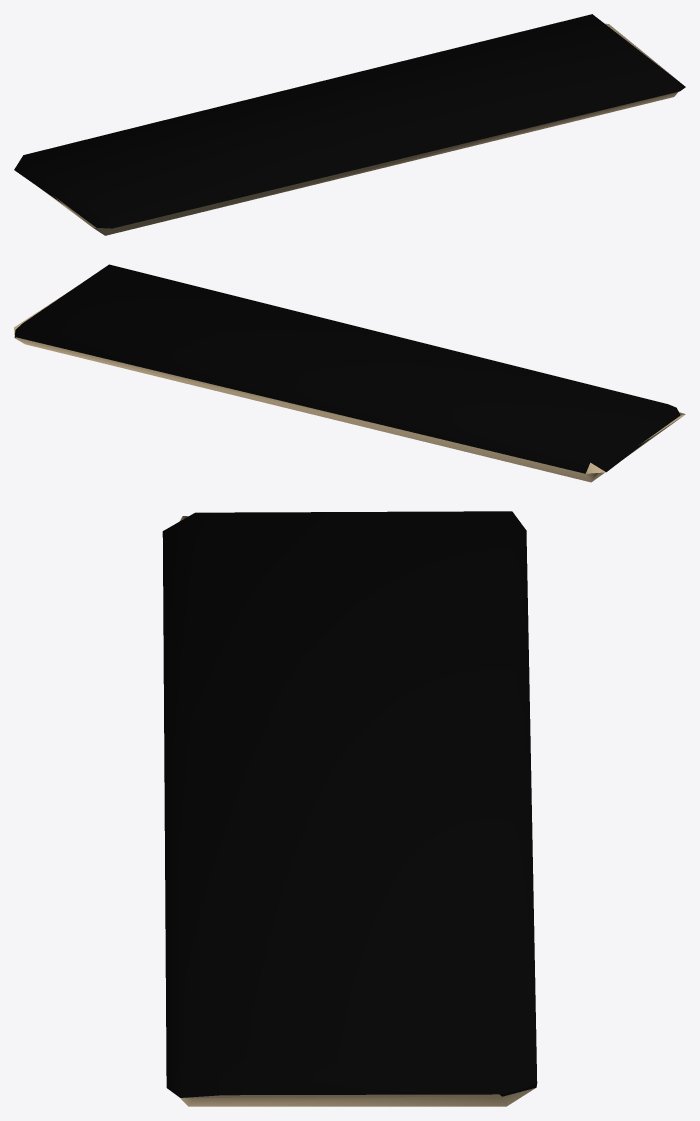
Rendered from PathSlab.fbx.
3 renders of one model, top to bottom at view 1: azimuth 30°, elevation 25°; view 2: azimuth 150°, elevation 25°; view 3: azimuth 270°, elevation 25°, orthographic. The views are drawn at different scales.
Parts seen in each view (by area): view 1: PathSlab; view 2: PathSlab; view 3: PathSlab.
Boxes of the visible parts, left/top/right/bottom form: PathSlab: left=14, top=14, right=685, bottom=235; PathSlab: left=14, top=264, right=685, bottom=482; PathSlab: left=162, top=511, right=537, bottom=1106.
Bounding box in the file's own units: 2.32 × 0.0854 × 0.6357.
1 material, 1 textured.
